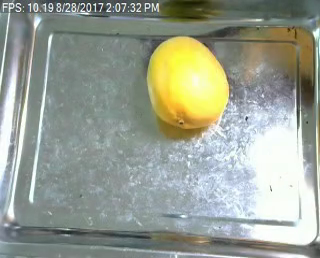Mango: (144, 34, 229, 124)
